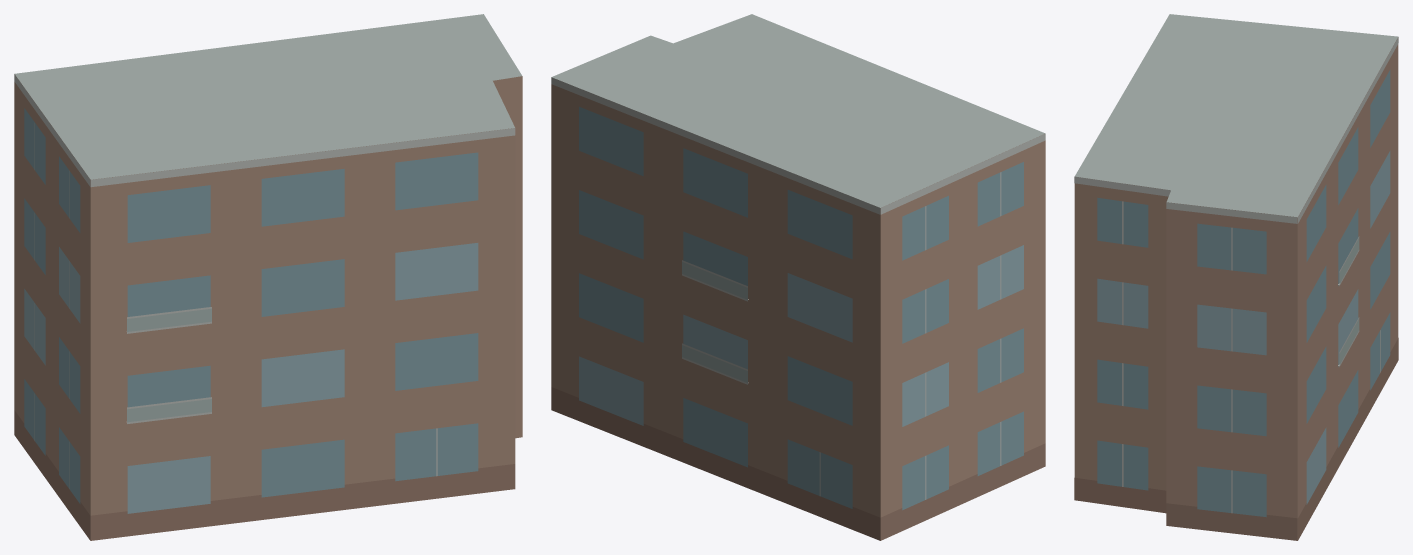
Rendered from survey-upis-32860707.glb.
3 views of the same model, side by side, from view 1: azimuth 30°, elevation 25°; view 2: azimuth 150°, elevation 25°; view 3: azimuth 270°, elevation 25° (orthographic). The views are drawn at different scales.
Visible parts, largest first — view 1: survey-upis-32860707.tmp; view 2: survey-upis-32860707.tmp; view 3: survey-upis-32860707.tmp.
Part boxes in pixels (x1,y1,x2,y2): survey-upis-32860707.tmp: (14,14,522,540); survey-upis-32860707.tmp: (551,14,1045,540); survey-upis-32860707.tmp: (1074,14,1398,540).
Size of the model in its own units: 15.77 by 11.7 by 10.62.
